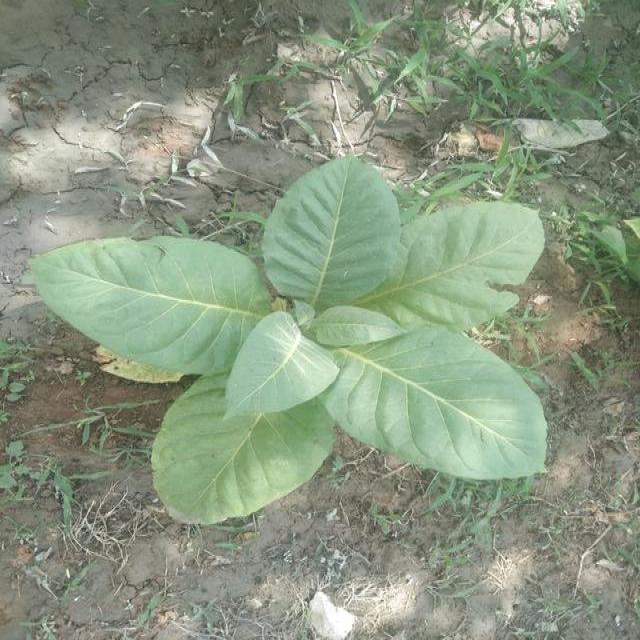crop: (47, 167, 556, 521)
